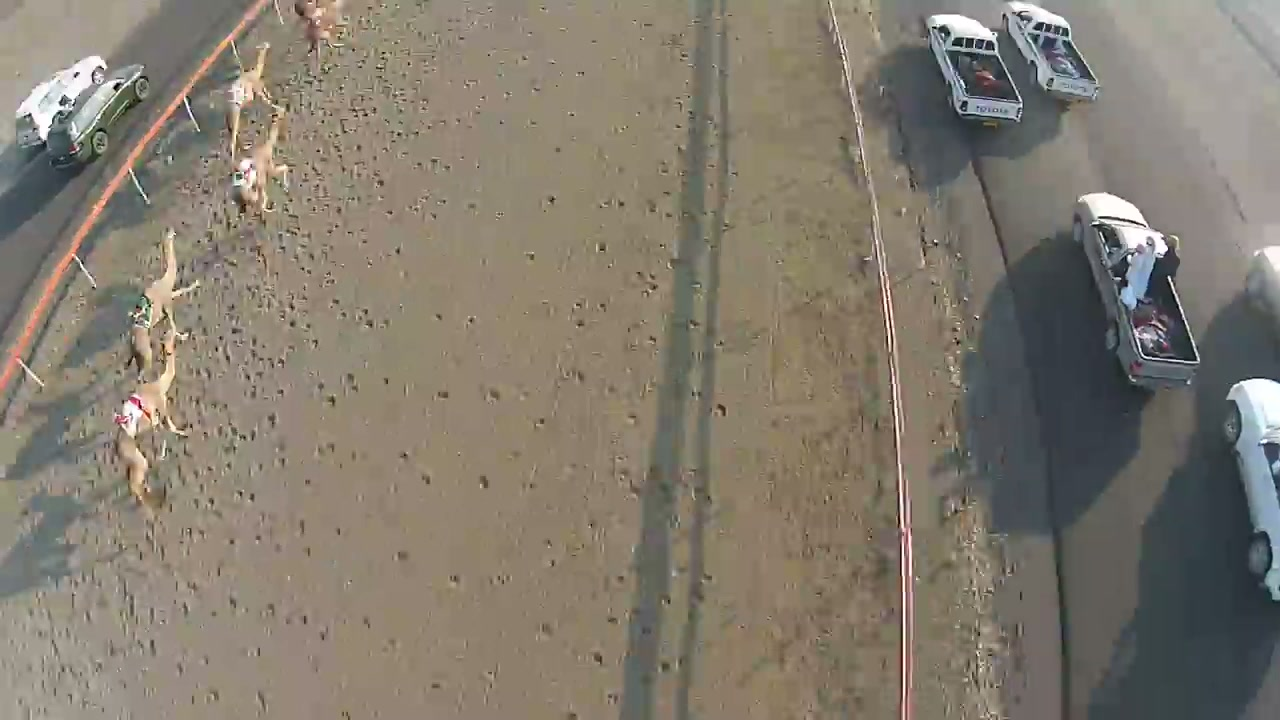animal_footprint: (93, 6, 435, 653)
